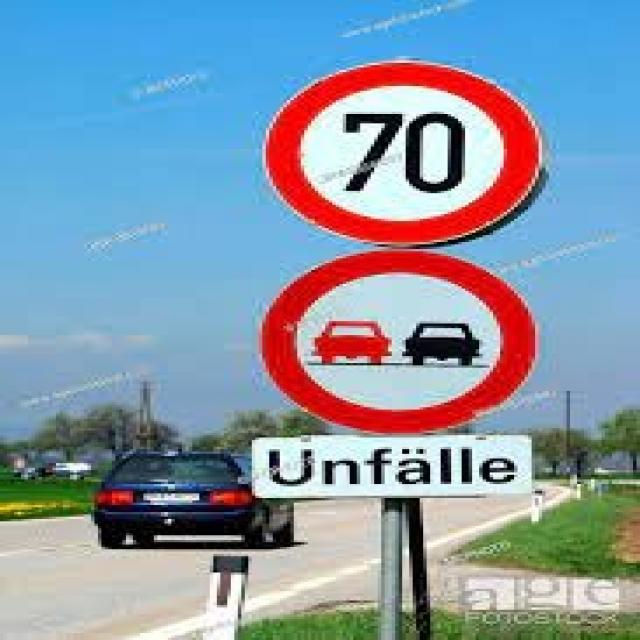no_passing: (253, 244, 546, 433)
